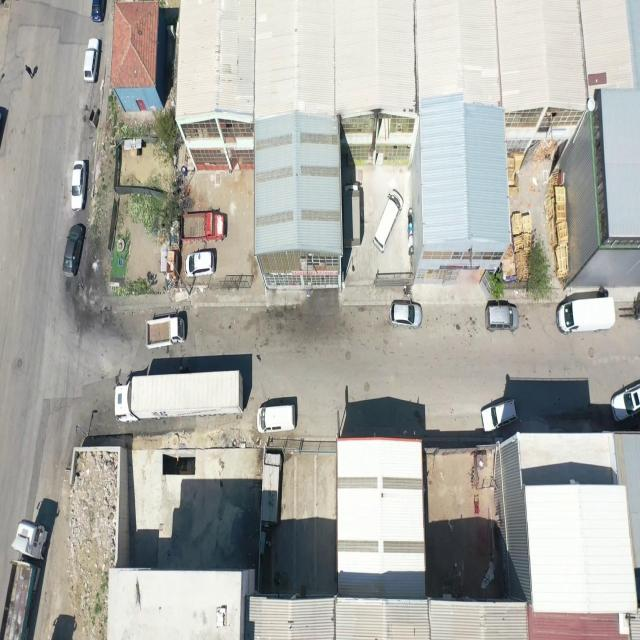p3rson: (25, 64, 34, 80)
